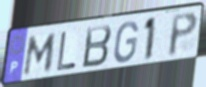1: (143, 16, 158, 62)
B: (81, 23, 114, 70)
G: (112, 20, 140, 65)
L: (55, 30, 78, 73)
M: (21, 32, 58, 78)
P: (167, 11, 199, 59)
